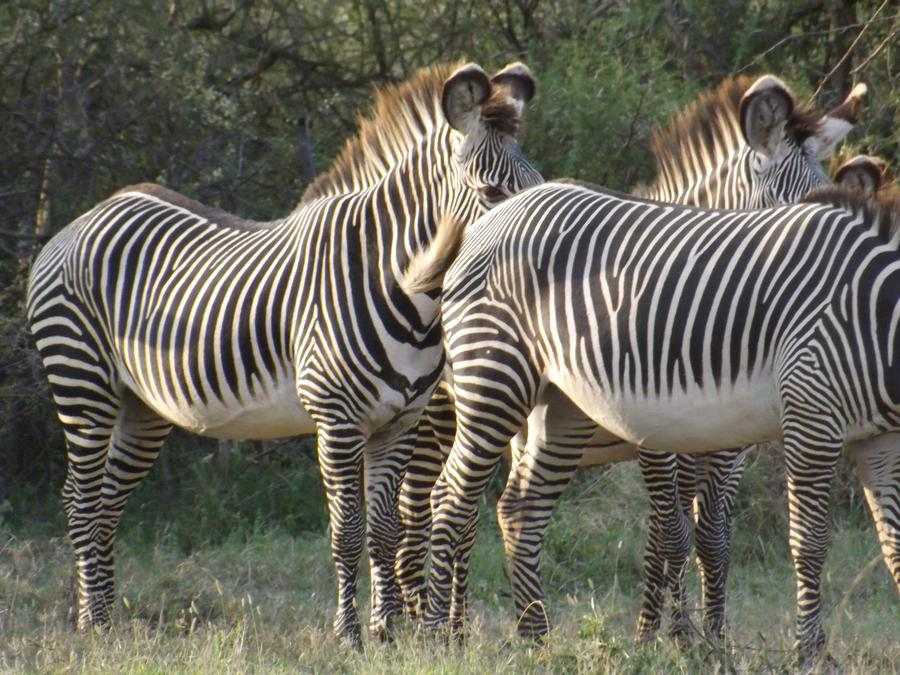zebra_grevys: (21, 152, 381, 424)
